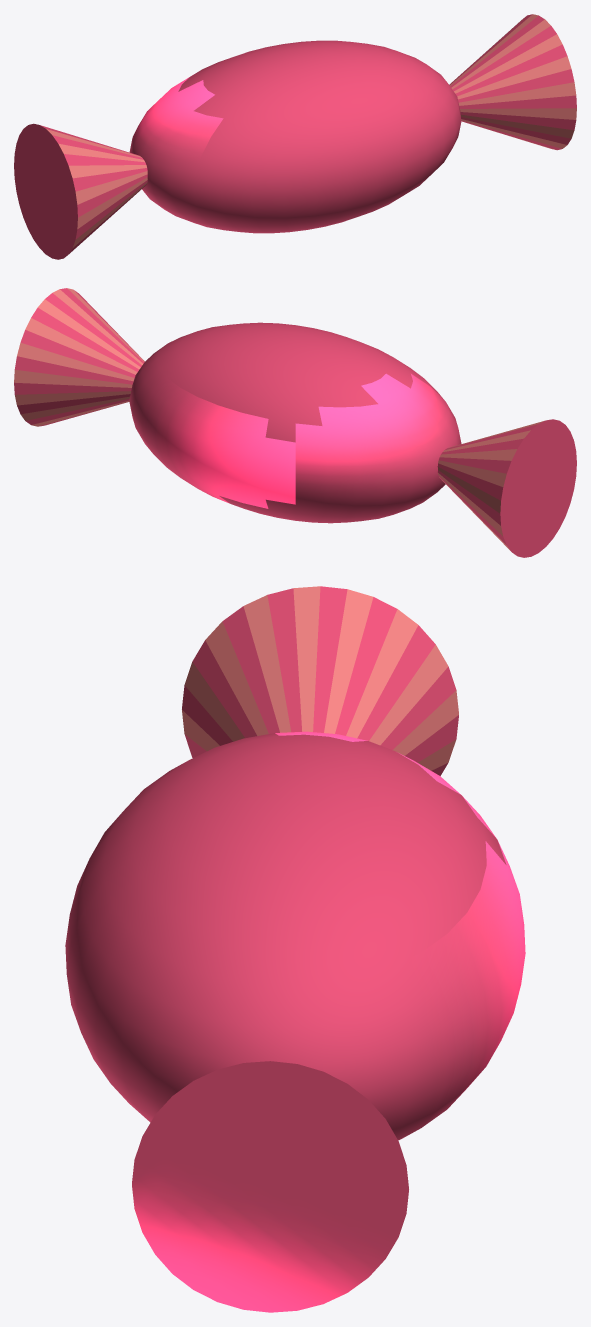
Rendered from cukierek.gltf.
3 views of the same model, one above another, from view 1: azimuth 30°, elevation 25°; view 2: azimuth 150°, elevation 25°; view 3: azimuth 270°, elevation 25° (orthographic). The views are drawn at different scales.
Parts seen in each view (by area): view 1: Sphere, Cone; view 2: Sphere, Cone; view 3: Sphere, Cone.
Part boxes in pixels (x1,y1,x2,y2): Sphere: (129,40,461,233); Cone: (14,14,576,259); Sphere: (129,322,461,523); Cone: (14,288,576,557); Sphere: (65,731,525,1140); Cone: (132,586,458,1312).
Bounding box in the file's own units: 1.13 × 0.3473 × 0.458.
